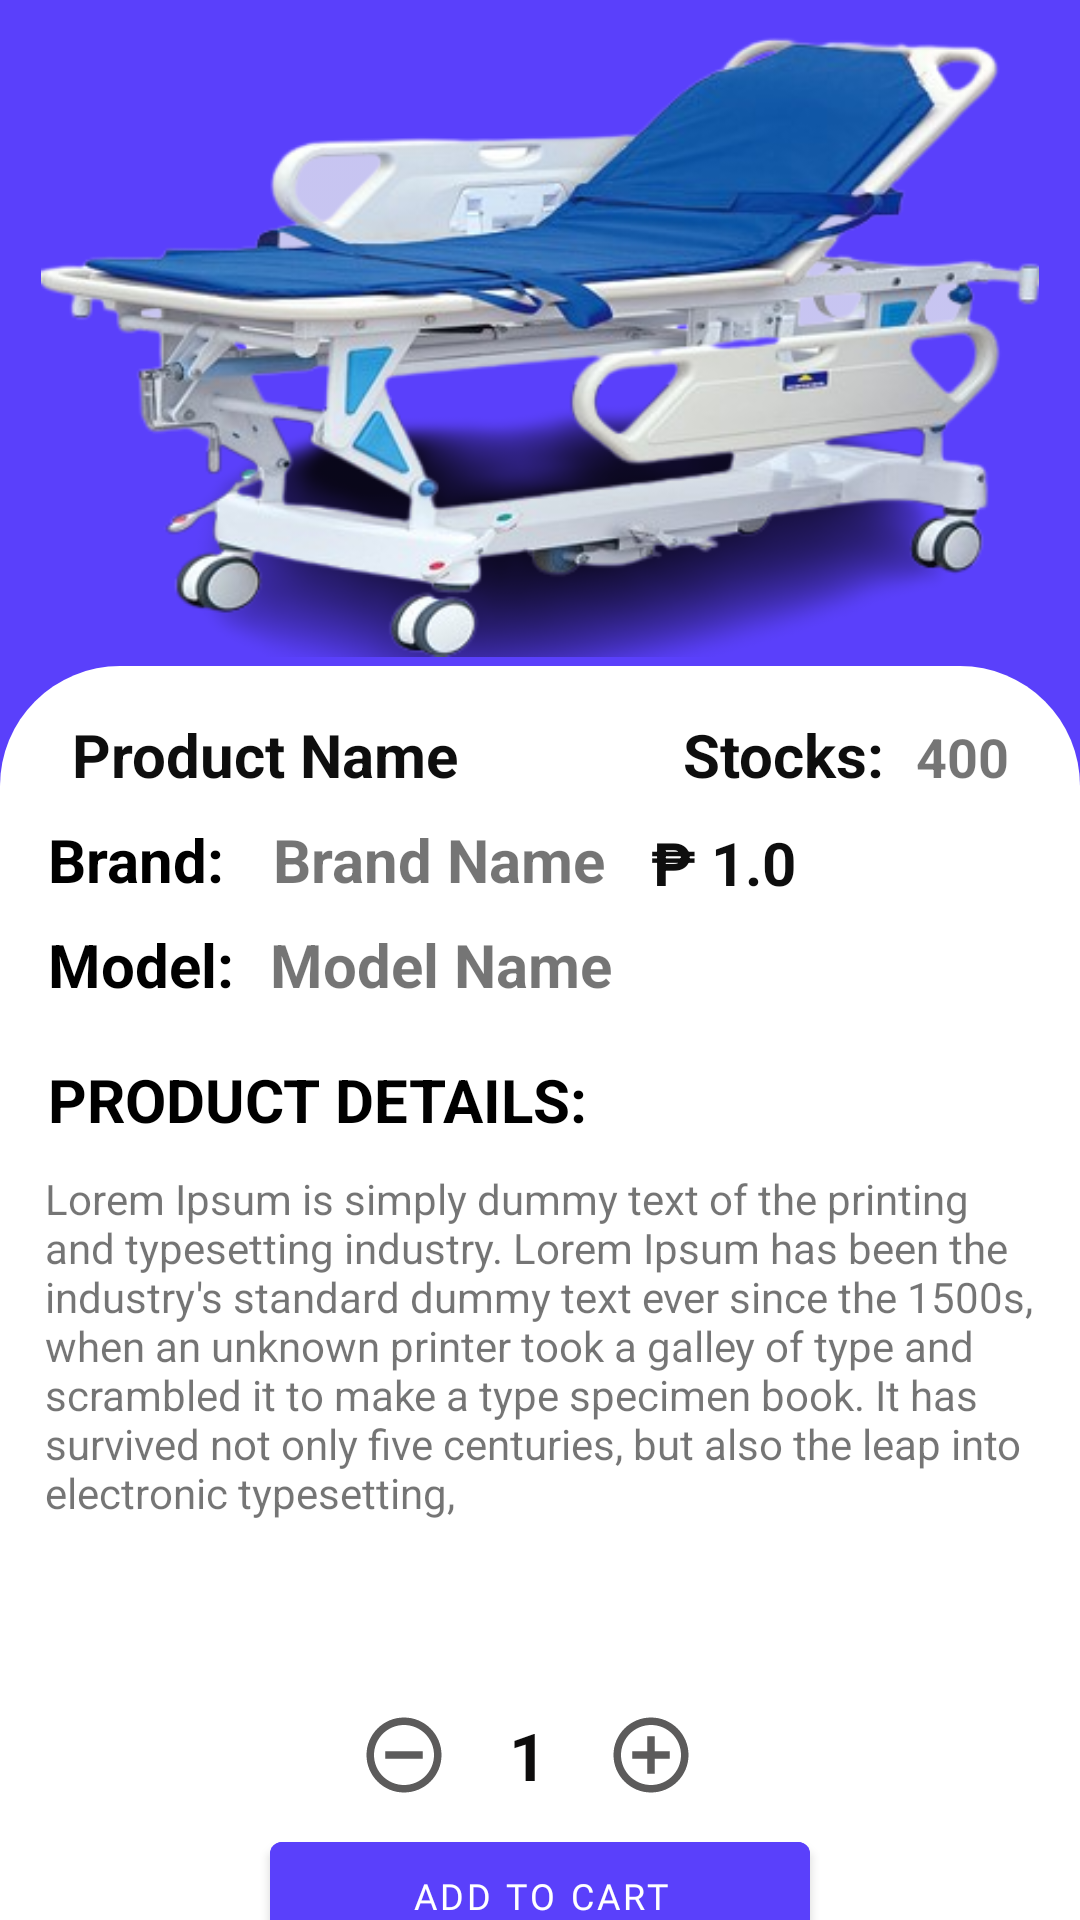

Icons on this 1080w x 1920h Android screen, each with its box as (x1, y1, x2, y2):
add circle: (613, 1717, 689, 1793)
remove circle: (366, 1717, 442, 1793)
